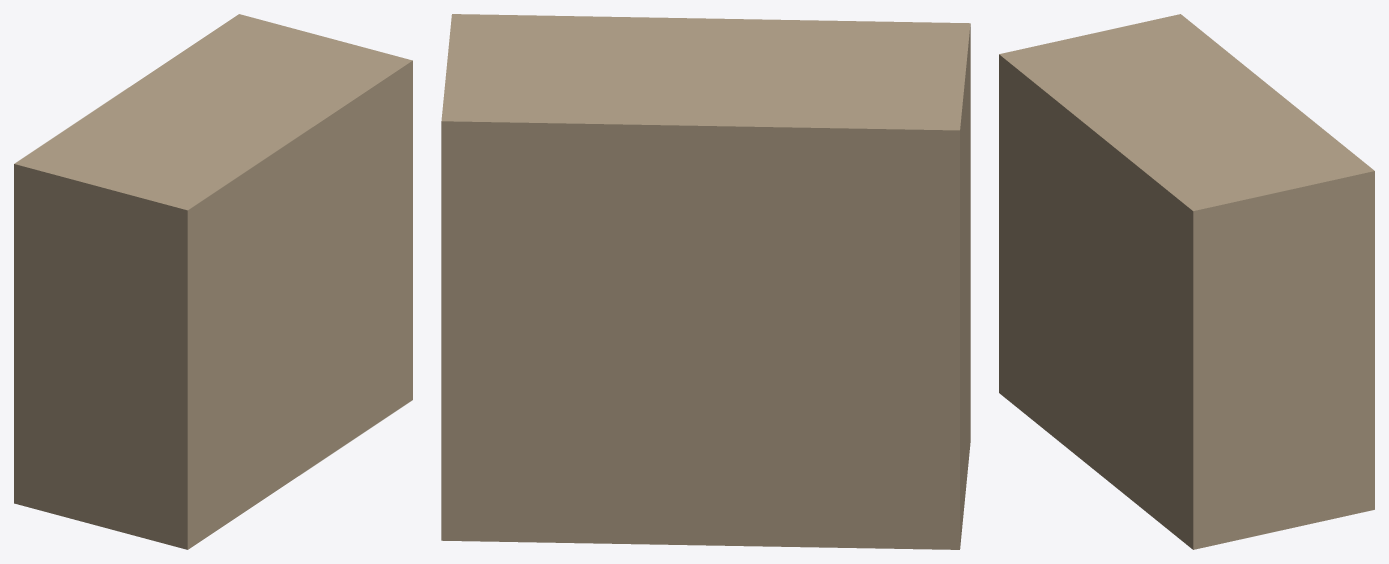
File: bld_106415159.dae
3 views of the same model, side by side, from view 1: azimuth 30°, elevation 25°; view 2: azimuth 150°, elevation 25°; view 3: azimuth 270°, elevation 25° (orthographic). The views are drawn at different scales.
Visible parts, largest first — view 1: bld_106415159; view 2: bld_106415159; view 3: bld_106415159.
Boxes of the visible parts, x1,y1,x2,y2 form: bld_106415159: (14,14,412,549); bld_106415159: (441,14,970,549); bld_106415159: (999,14,1374,549).
Bounding box in the file's own units: 9.99 × 8.05 × 8.
